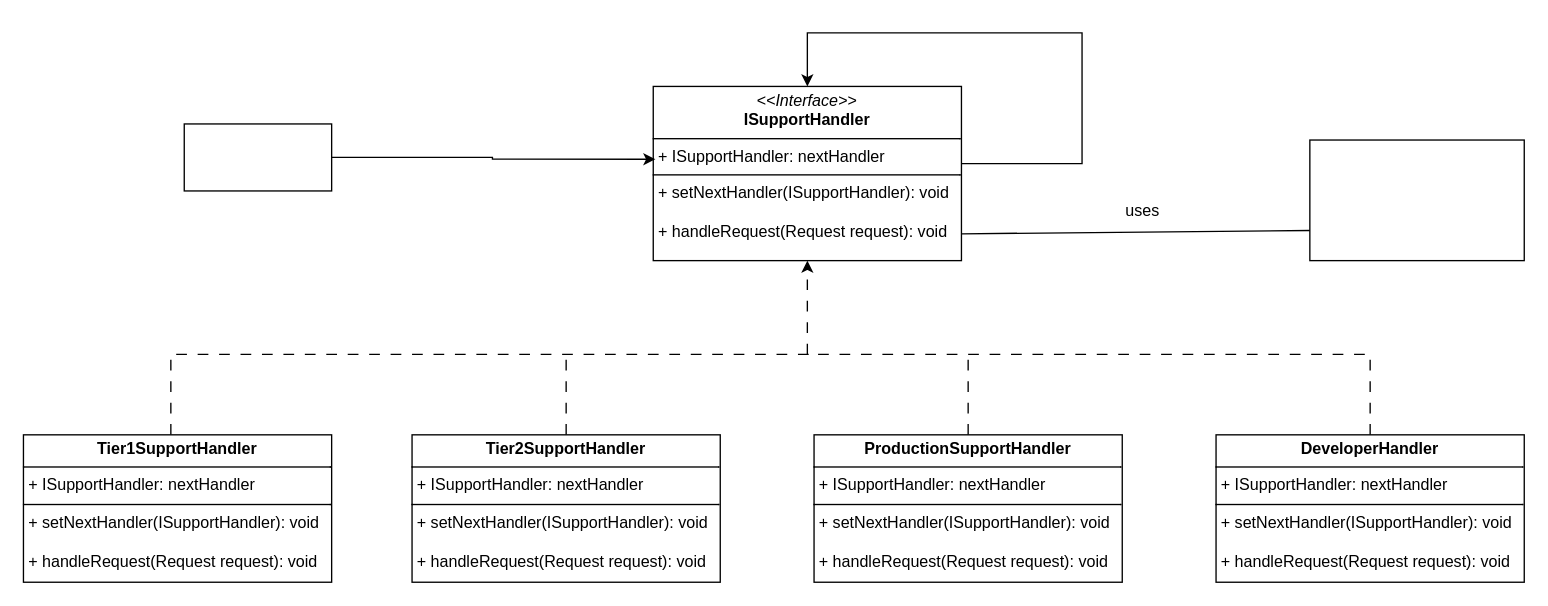
The diagram is 1548 pixels wide and 606 high, and some of its shapes have lost their labels. Here are the shapes that lost their labels. From the top down, the centre of each, then its label:
the point at 257,157: Client
the point at 1416,200: Request + priority: String + getPriority(): String
